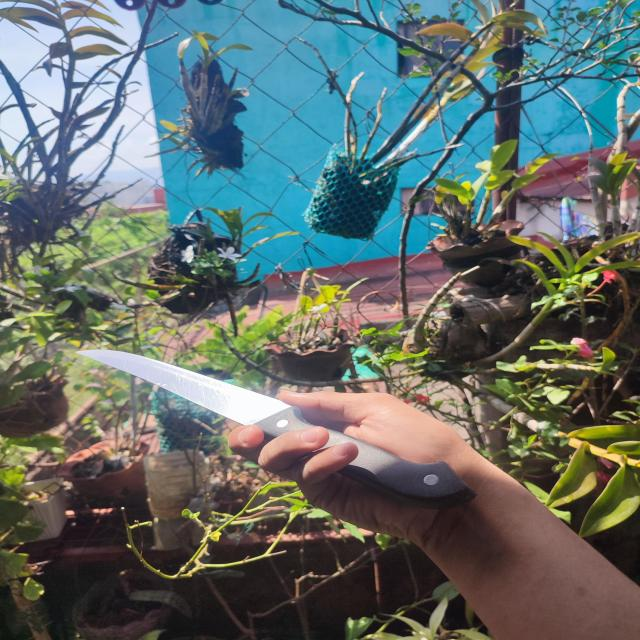knife: (74, 349, 468, 504)
